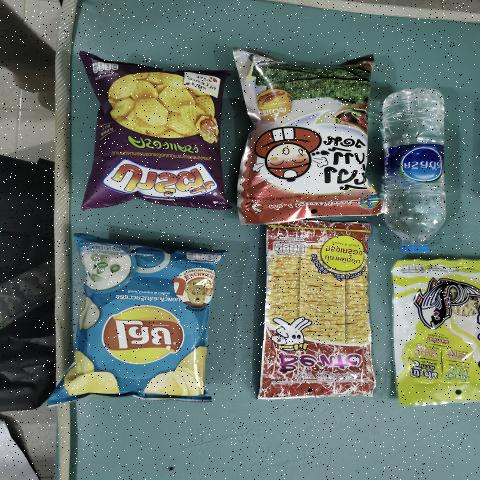bento_red: (279, 228, 359, 390)
crystal: (372, 86, 456, 251)
lay_blue: (84, 256, 212, 388)
party_purple: (102, 76, 215, 194)
taokaenoi: (251, 69, 362, 212)
taro_yellow: (404, 260, 480, 401)
